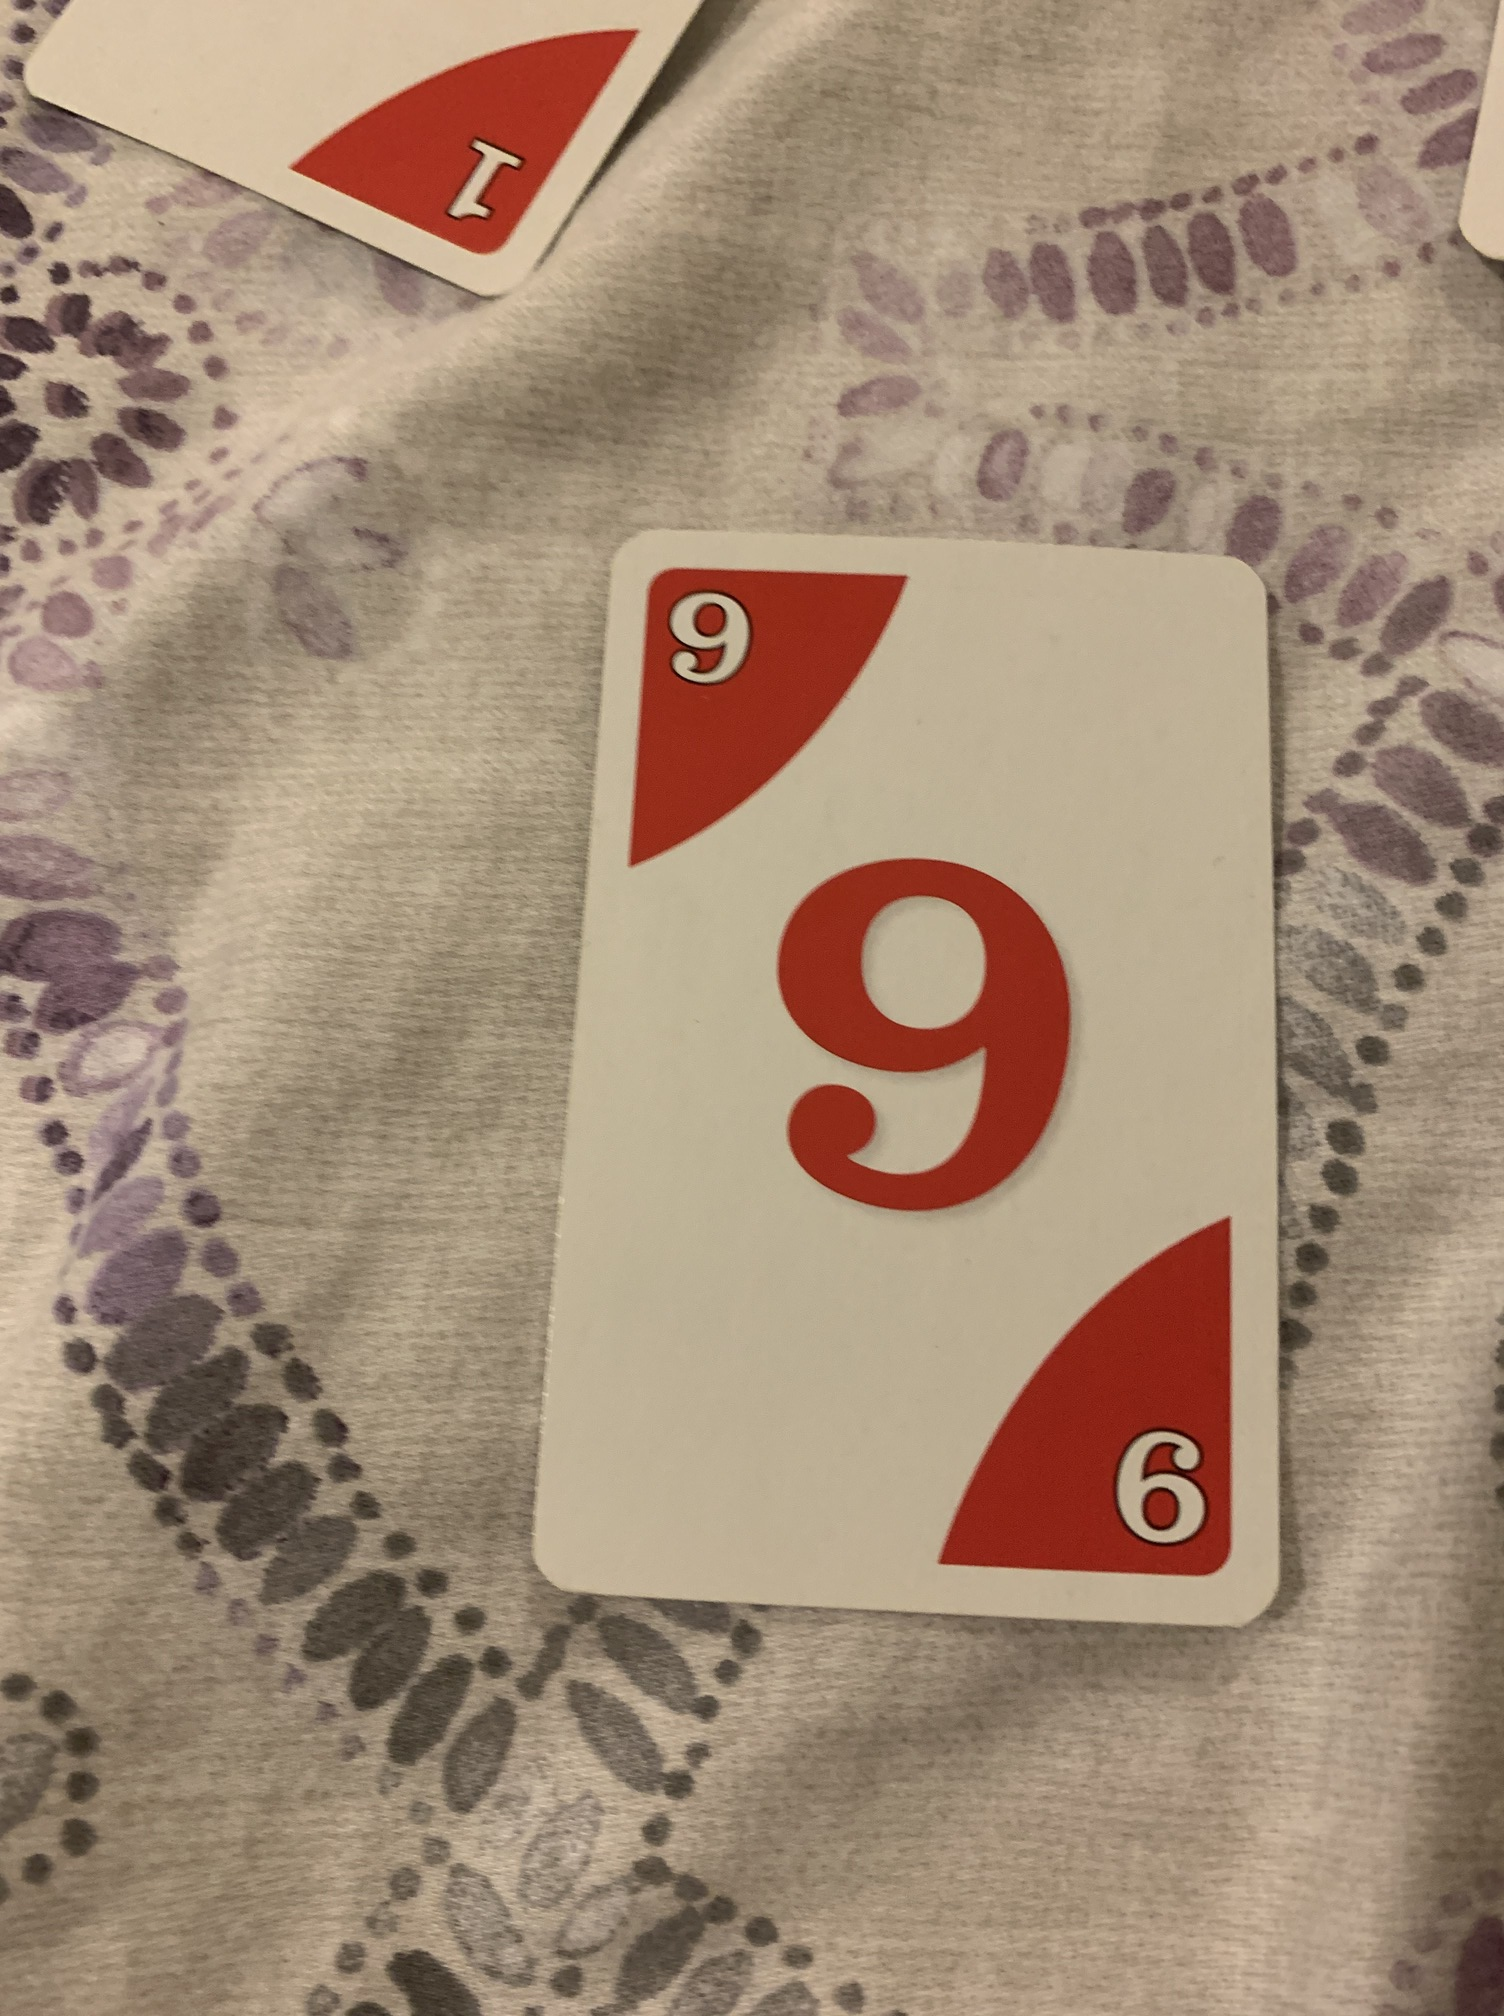nine: (531, 520, 1291, 1640)
